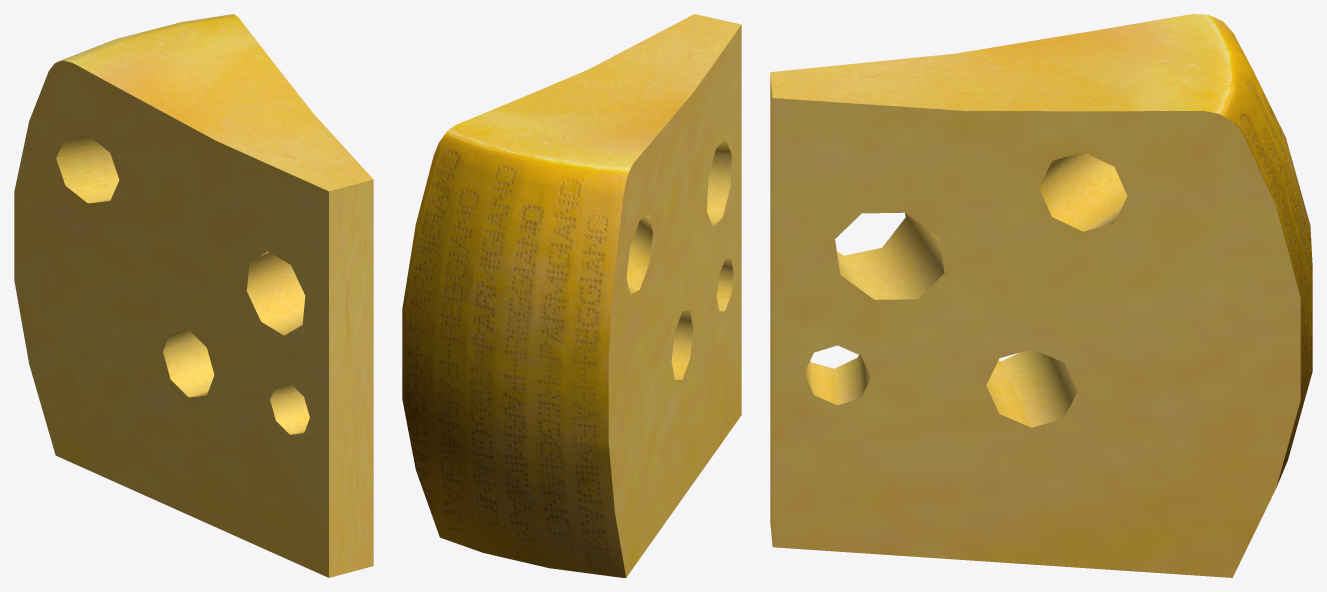
The model's file is cheese4.fbx.
3 renders of one model, left to right at view 1: azimuth 30°, elevation 25°; view 2: azimuth 150°, elevation 25°; view 3: azimuth 270°, elevation 25°, orthographic. The views are drawn at different scales.
Parts seen in each view (by area): view 1: small_cheese1; view 2: small_cheese1; view 3: small_cheese1.
Part boxes in pixels (x1=…): small_cheese1: x1=14, y1=14, x2=373, y2=577; small_cheese1: x1=402, y1=14, x2=741, y2=577; small_cheese1: x1=770, y1=14, x2=1312, y2=577.
Size of what is drawn, in the model's own units: 8.01 by 15.38 by 16.25.
